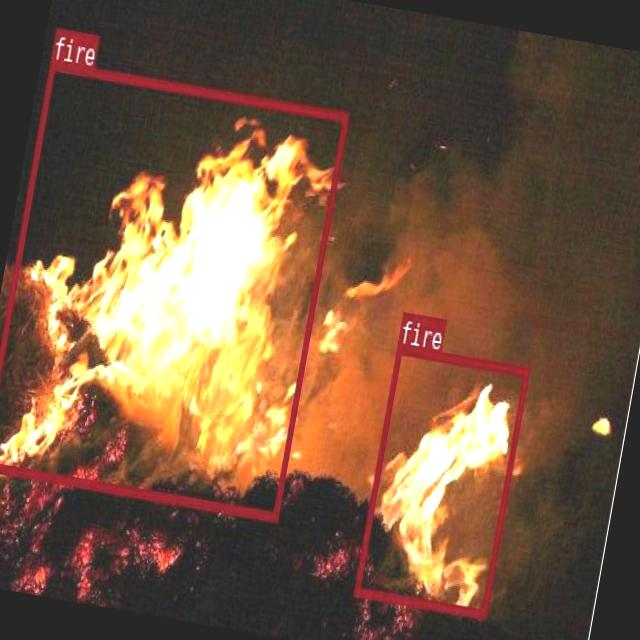fire: (0, 59, 348, 520), (352, 342, 529, 616)
